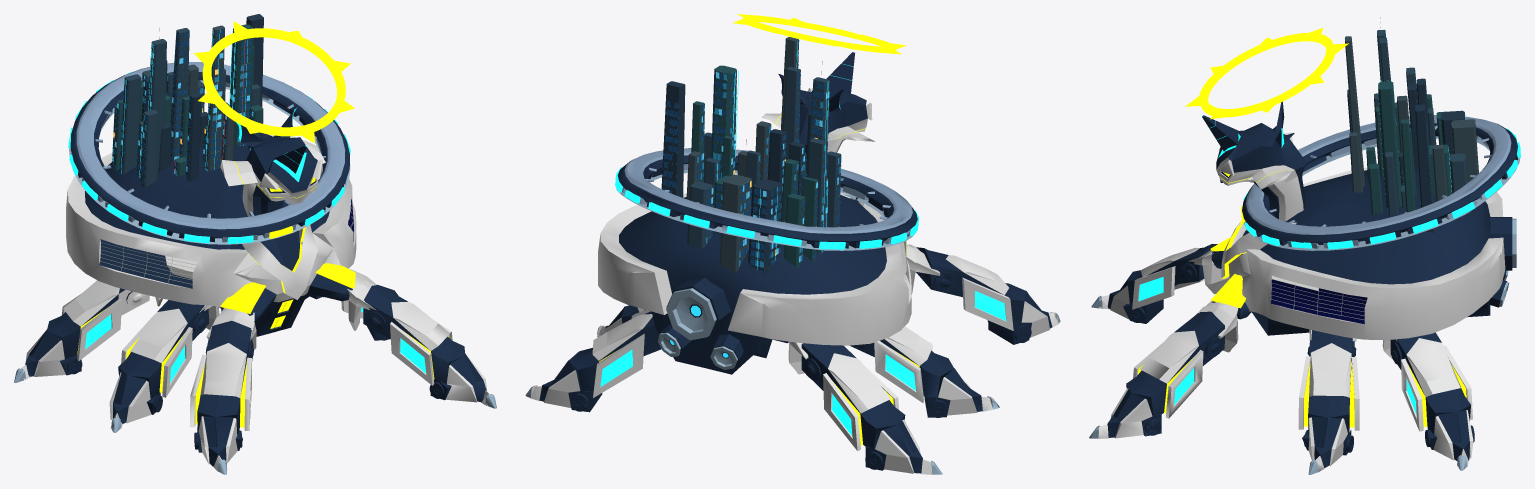
Rendered from keidentera.glb.
3 renders of one model, left to right at view 1: azimuth 30°, elevation 25°; view 2: azimuth 150°, elevation 25°; view 3: azimuth 270°, elevation 25°, orthographic. The views are drawn at different scales.
Visible parts, largest first — view 1: RING | upper shell panel 03.006, Central concourse tower window_blue.040, Cube, Cylinder.003, Plane; view 2: RING | upper shell panel 03.006, Central concourse tower window_blue.040, Cube, Cylinder, Cylinder.003, Cylinder.002, Cylinder.001; view 3: RING | upper shell panel 03.006, Central concourse tower window_blue.040, Cube, Cylinder.003, Plane.001, Cylinder.
Part boxes in pixels (x1=…): RING | upper shell panel 03.006: x1=14, y1=62, x2=496, y2=474; Central concourse tower window_blue.040: x1=112, y1=14, x2=263, y2=187; Cube: x1=220, y1=108, x2=325, y2=216; Cylinder.003: x1=194, y1=21, x2=354, y2=143; Plane: x1=100, y1=242, x2=196, y2=284; RING | upper shell panel 03.006: x1=525, y1=148, x2=1060, y2=474; Central concourse tower window_blue.040: x1=660, y1=37, x2=841, y2=274; Cube: x1=761, y1=52, x2=874, y2=158; Cylinder: x1=666, y1=277, x2=731, y2=341; Cylinder.003: x1=732, y1=14, x2=906, y2=54; Cylinder.002: x1=710, y1=334, x2=743, y2=369; Cylinder.001: x1=658, y1=324, x2=692, y2=356; RING | upper shell panel 03.006: x1=1089, y1=115, x2=1520, y2=474; Central concourse tower window_blue.040: x1=1344, y1=17, x2=1478, y2=232; Cube: x1=1202, y1=101, x2=1306, y2=221; Cylinder.003: x1=1185, y1=28, x2=1348, y2=119; Plane.001: x1=1271, y1=277, x2=1367, y2=324; Cylinder: x1=1489, y1=217, x2=1516, y2=270.
Bounding box in the file's own units: 79.77 × 69.87 × 79.62.
